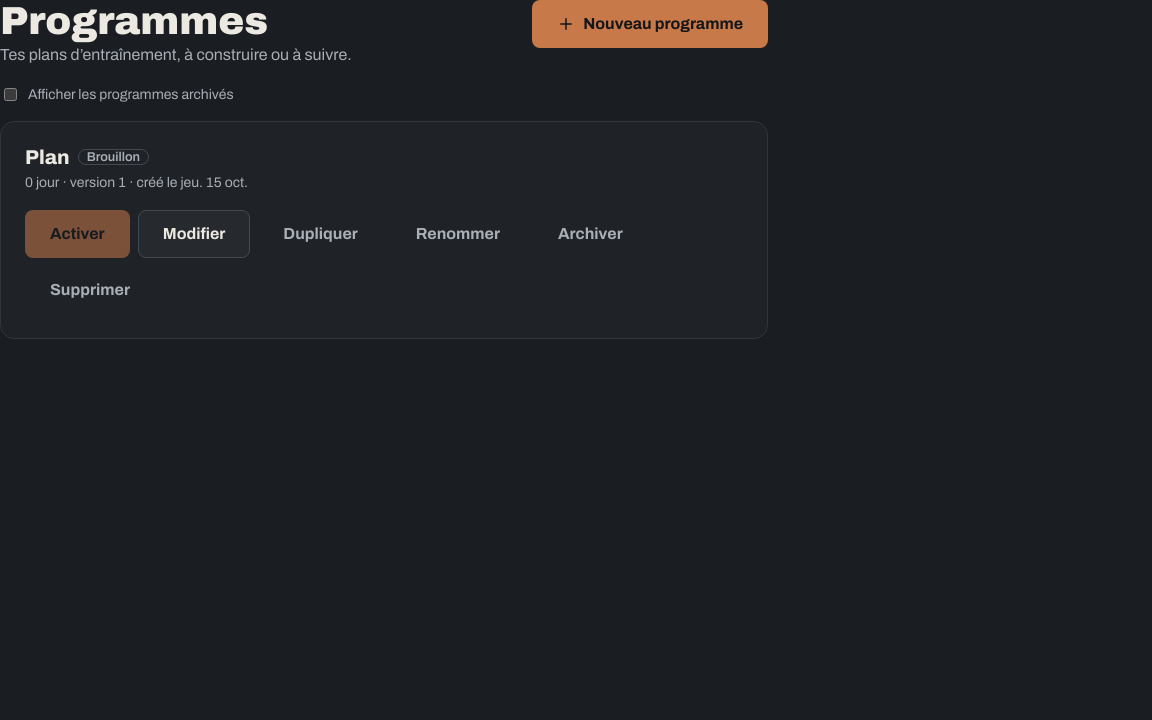
Test case: ProgramsView › renomme un programme
Click the button "Renommer": (458, 234) [391,210,525,258]
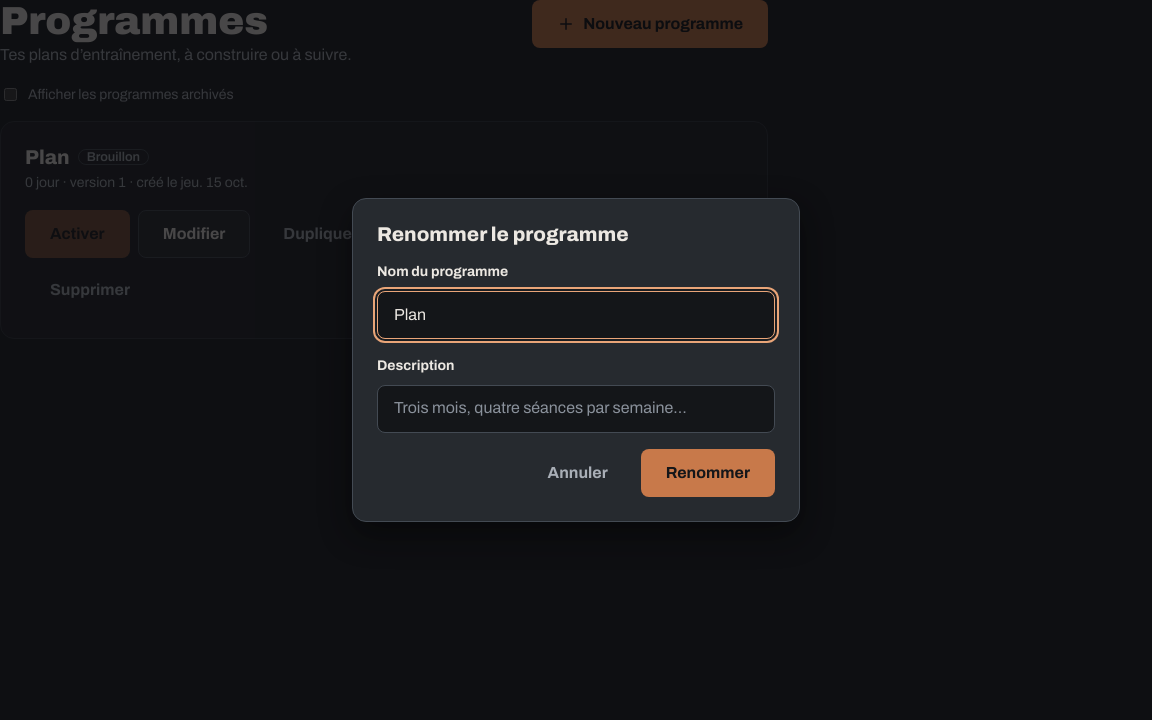
Result: the dialog is shown at [352,198,800,522]
Replace the text in the field labelled "Nom du programme" with "Force 5×5": (576, 315) [377,291,775,339]
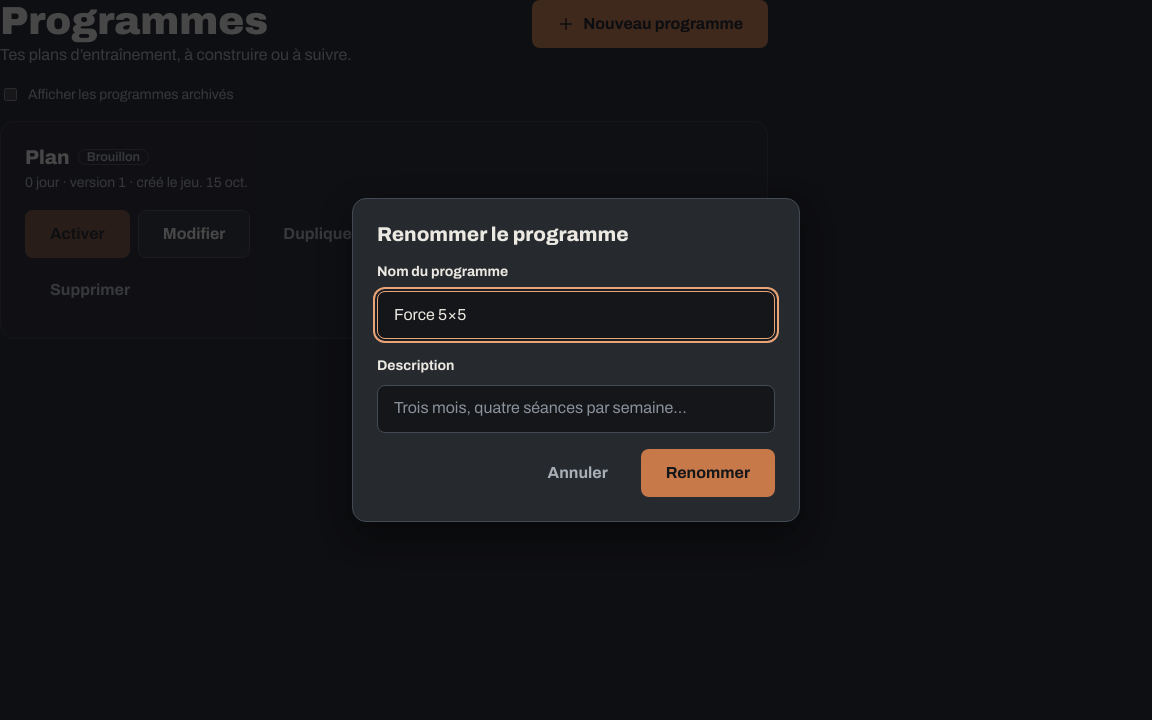
Result: the dialog is shown at [352,198,800,522]
Click the button "Renommer": (708, 473) [641,449,775,497]
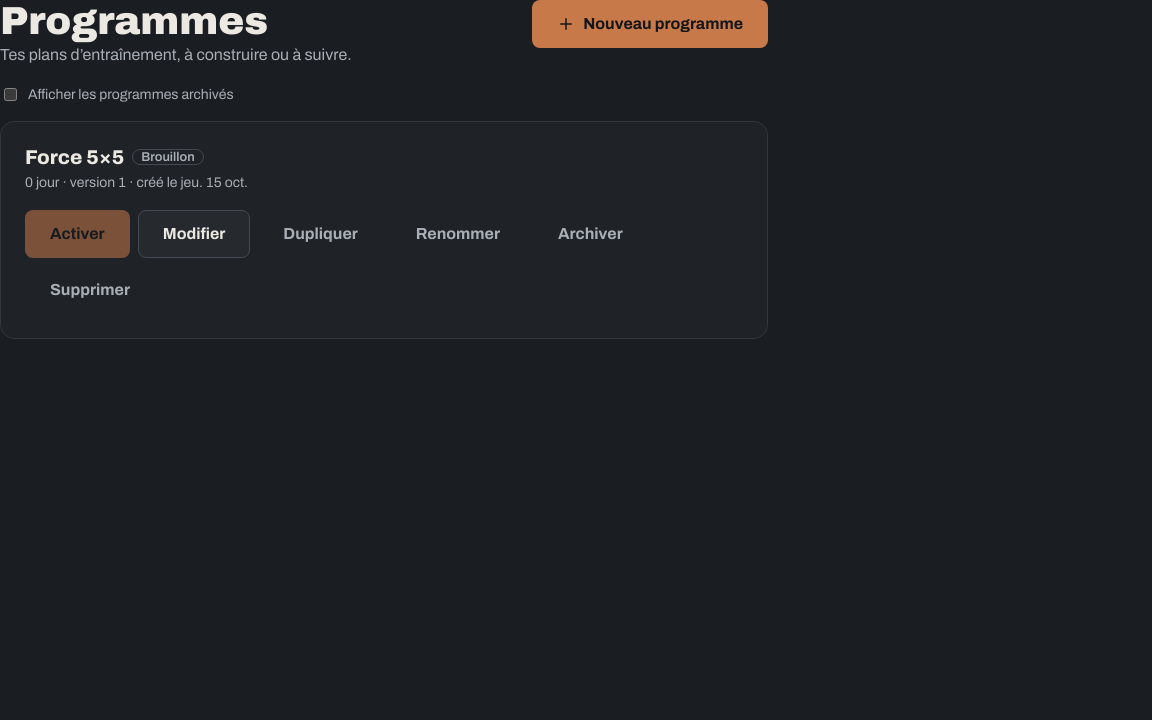
Result: the heading "Force 5×5 Brouillon" is shown at [25,146,204,168]
